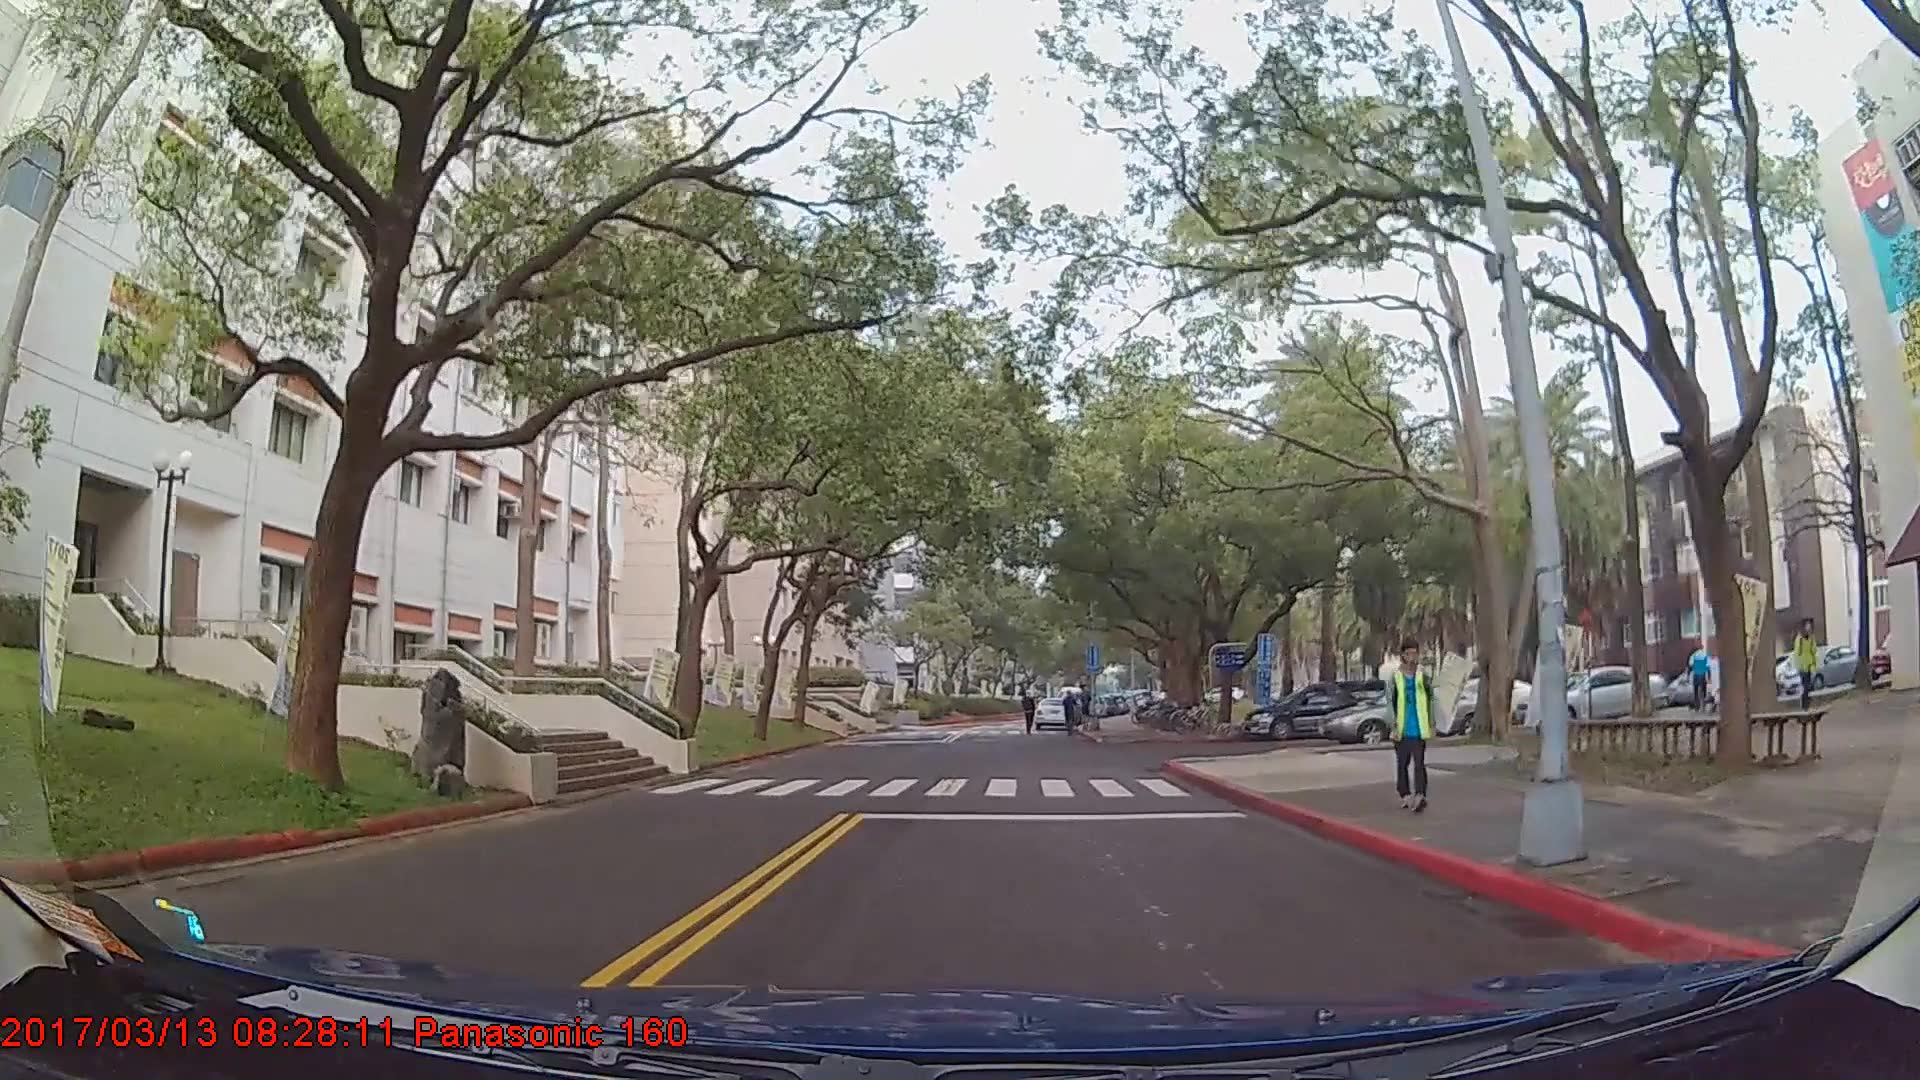pedestrian: (1381, 633, 1436, 806), (1794, 620, 1820, 716), (1020, 690, 1040, 737), (1061, 688, 1081, 733)
vehicle: (1319, 678, 1492, 741), (1515, 664, 1665, 731), (1246, 678, 1383, 739), (1775, 641, 1864, 692), (1032, 693, 1073, 730)
